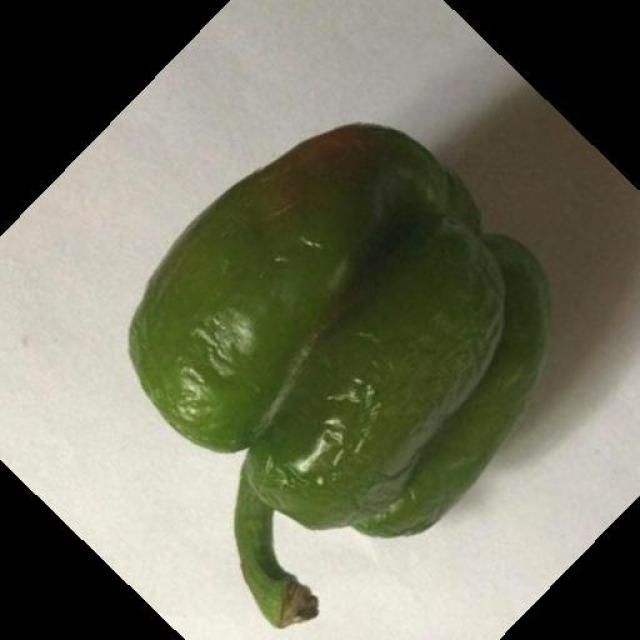Stale_Capsicum: (99, 135, 536, 553)
